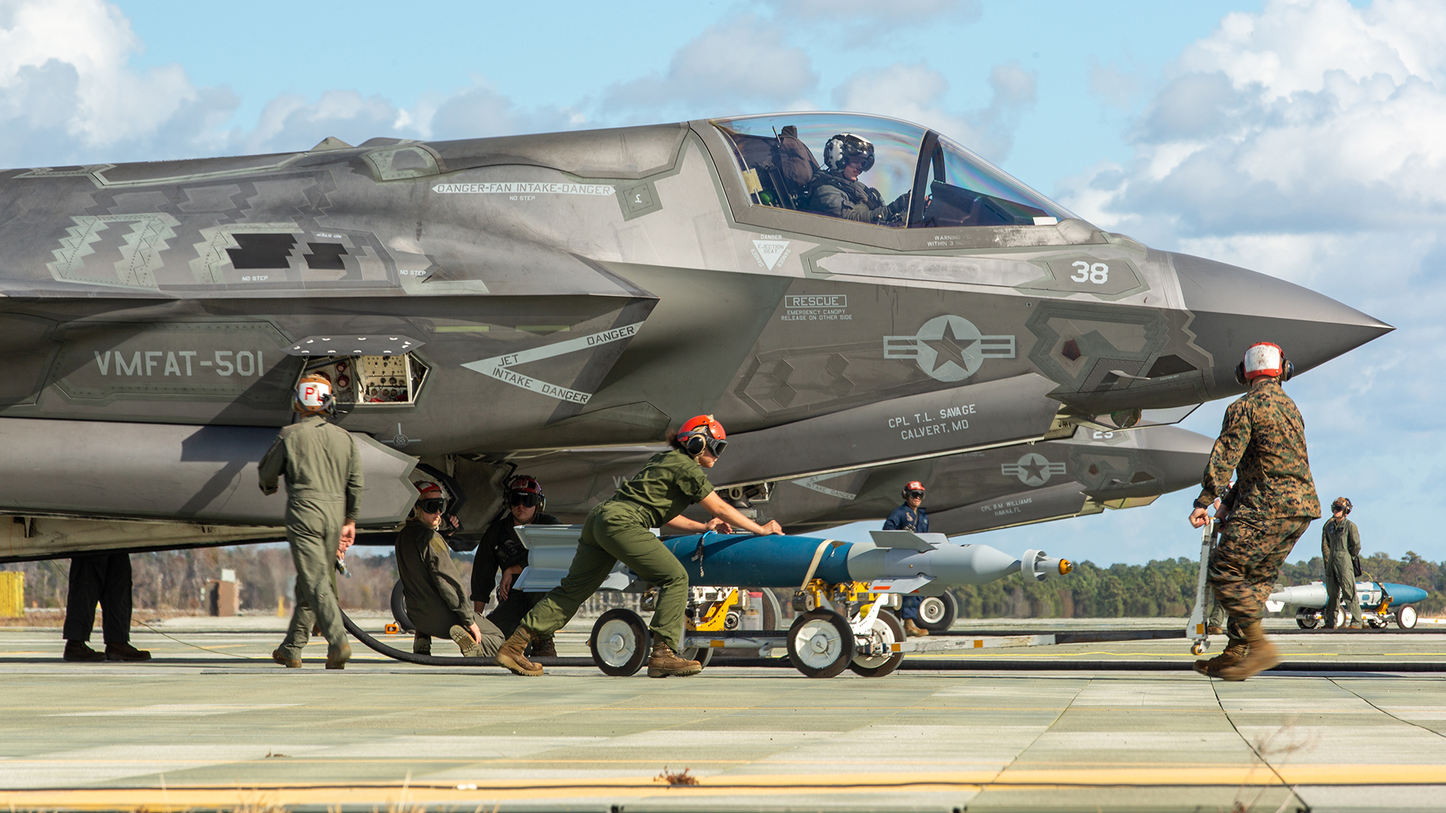F35: (0, 91, 1405, 573)
